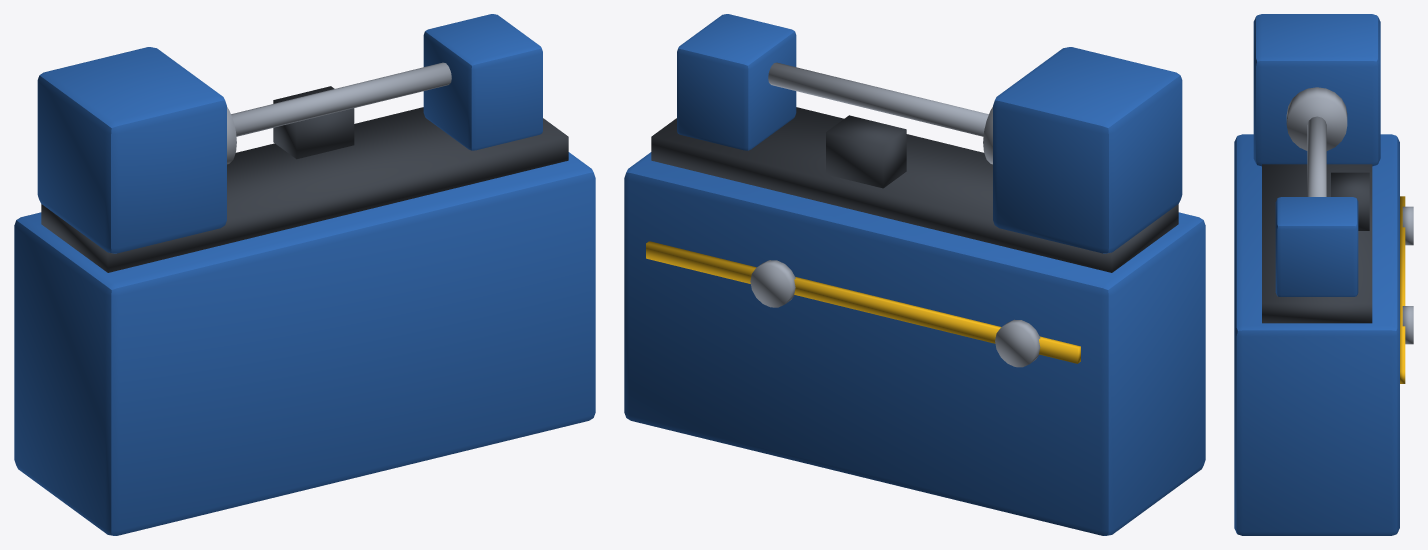
File: lathe.glb
3 renders of one model, left to right at view 1: azimuth 30°, elevation 25°; view 2: azimuth 150°, elevation 25°; view 3: azimuth 270°, elevation 25°, orthographic. The views are drawn at different scales.
Visible parts, largest first — view 1: Lathe; view 2: Lathe; view 3: Lathe.
Boxes of the visible parts, left/top/right/bottom form: Lathe: left=14, top=14, right=595, bottom=535; Lathe: left=624, top=14, right=1205, bottom=535; Lathe: left=1234, top=14, right=1413, bottom=535.
Size of the model in its own units: 1.7 by 1.34 by 0.65.
